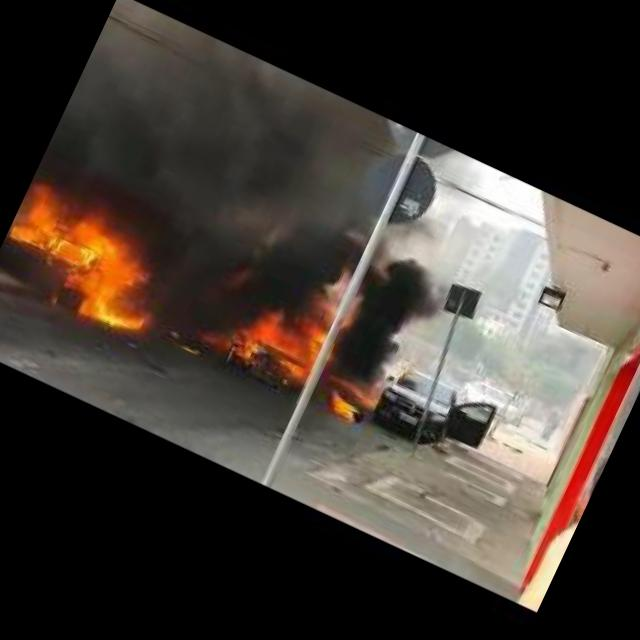fire: (0, 179, 187, 343), (310, 228, 460, 410), (232, 257, 354, 388), (325, 389, 362, 425)
